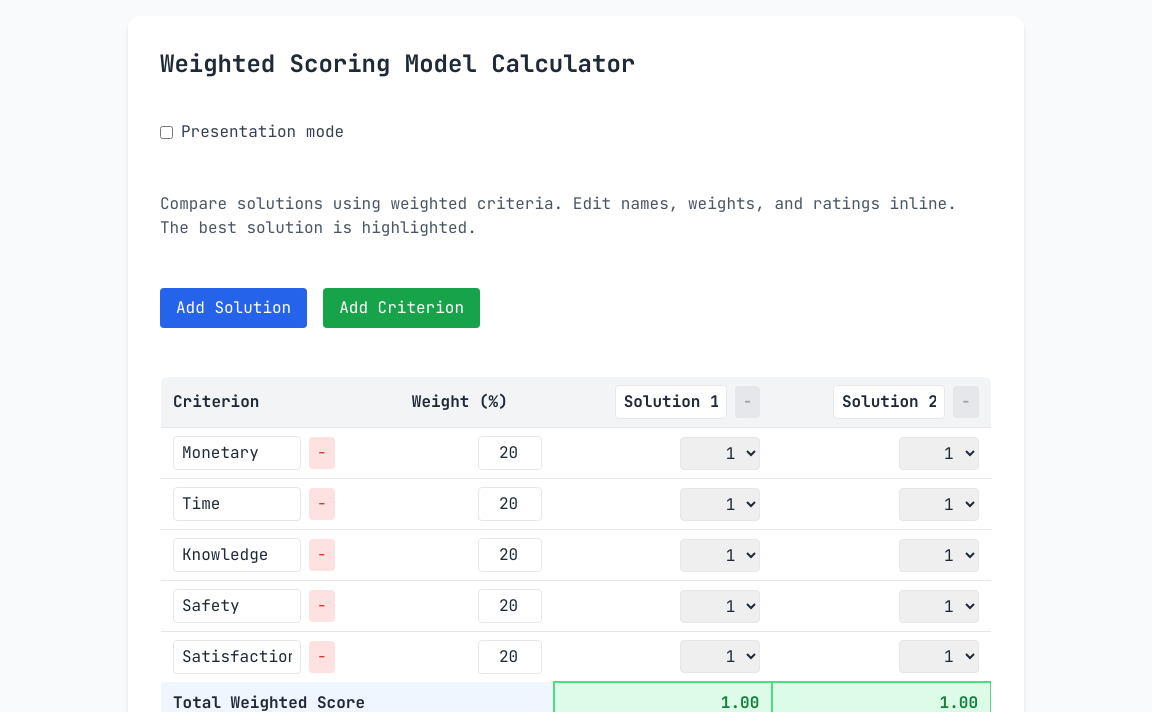
Test: WeightedScoringPanel user interactions › can edit solution name
Replace the text in the 1st field showing "Solution 1" with "New Solution" at point(671, 402), box [615,385,727,419]
(page scrolled)
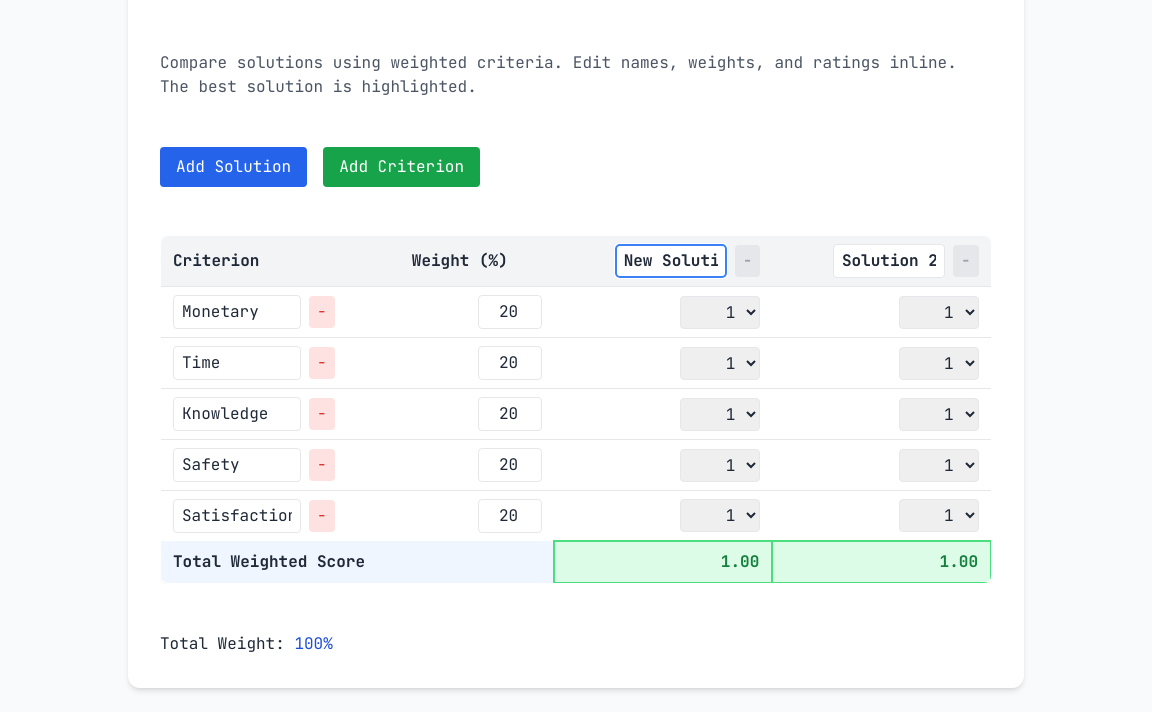
Expected: the cell with test id "score-solution-New Solution" is shown, [554,541,772,583]
